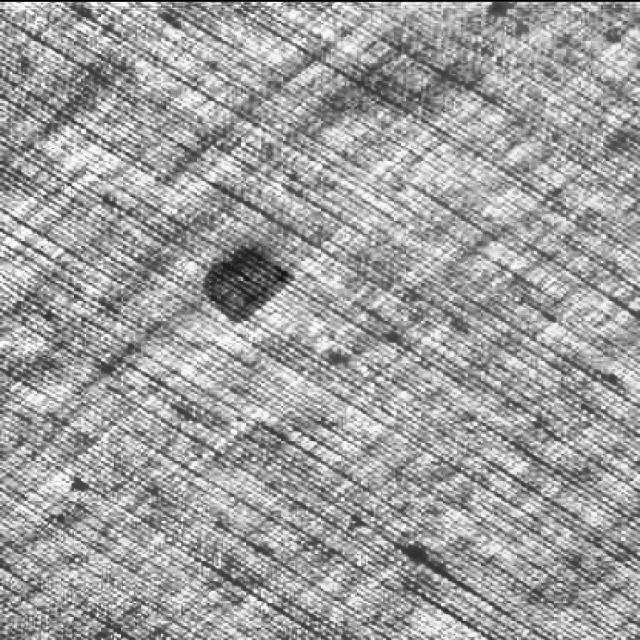oil_spot: (186, 223, 305, 335)
